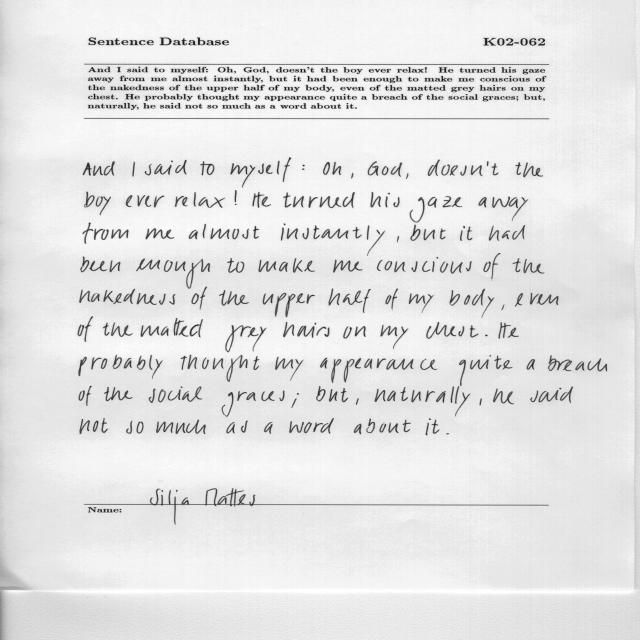word: (281, 223, 385, 256), (375, 386, 471, 417), (320, 358, 437, 383), (80, 289, 176, 317), (136, 258, 210, 289), (181, 355, 259, 382), (79, 355, 162, 379), (231, 158, 292, 188), (459, 355, 513, 386), (221, 391, 285, 417), (377, 257, 472, 274), (410, 196, 462, 222), (450, 289, 495, 318), (263, 293, 315, 317), (479, 197, 529, 221), (141, 318, 203, 337), (283, 192, 355, 208), (428, 160, 498, 176), (226, 325, 267, 352), (189, 224, 259, 239), (329, 289, 372, 313), (548, 355, 607, 372), (83, 223, 128, 244), (426, 322, 479, 339), (149, 386, 202, 403), (258, 258, 315, 273), (354, 419, 411, 434), (175, 192, 225, 208), (284, 322, 330, 338), (530, 386, 573, 403), (289, 418, 334, 434), (156, 420, 206, 434), (381, 325, 409, 349), (275, 357, 303, 380), (145, 160, 187, 175), (515, 293, 558, 307), (81, 257, 121, 272), (85, 192, 111, 215), (410, 225, 446, 241), (489, 225, 525, 241), (316, 386, 348, 402), (368, 162, 402, 177), (126, 195, 164, 208), (83, 161, 115, 176), (513, 259, 545, 274), (219, 290, 249, 306), (409, 294, 434, 313), (483, 254, 501, 280), (371, 192, 400, 208), (103, 322, 133, 337), (80, 418, 108, 434), (516, 163, 543, 178), (104, 387, 132, 401), (333, 260, 363, 273), (191, 287, 207, 310), (498, 322, 519, 339), (78, 318, 92, 342), (493, 389, 514, 405), (146, 229, 174, 240), (253, 192, 271, 208), (344, 326, 366, 339), (226, 421, 248, 434), (227, 258, 245, 273), (79, 386, 92, 406), (386, 289, 398, 310), (323, 162, 341, 175), (126, 421, 144, 434), (426, 419, 439, 436), (201, 162, 215, 176), (460, 226, 473, 241), (291, 393, 299, 408), (264, 422, 273, 434), (527, 359, 535, 370), (132, 162, 135, 177), (235, 191, 237, 205), (356, 398, 359, 405), (351, 173, 354, 179), (406, 173, 409, 179), (502, 305, 505, 311), (302, 165, 305, 170), (480, 399, 482, 406), (397, 236, 399, 242), (485, 335, 488, 337), (446, 433, 449, 434)
